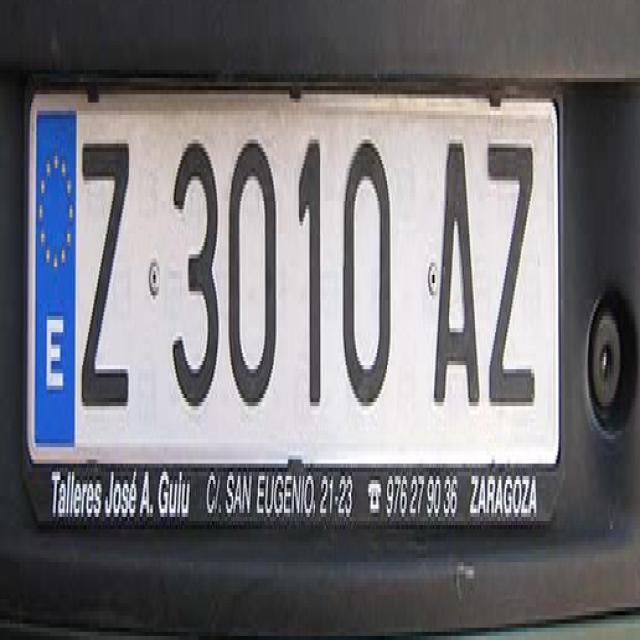EU: (28, 97, 565, 474)
Espagne: (26, 91, 80, 469)
